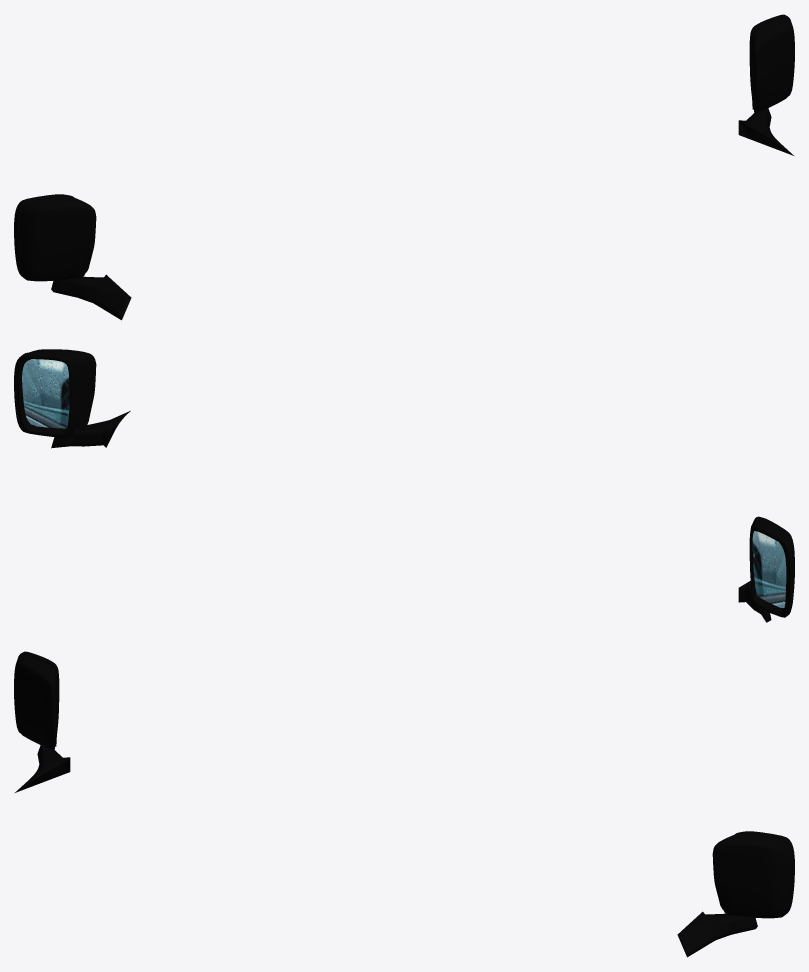
The model's file is Gương gốc.glb.
3 renders of one model, top to bottom at view 1: azimuth 30°, elevation 25°; view 2: azimuth 150°, elevation 25°; view 3: azimuth 330°, elevation 25°, orthographic.
Parts seen in each view (by area): view 1: Gương R, Gương L; view 2: Gương L, Gương R; view 3: Gương L, Gương R.
Part boxes in pixels (box(x1,y1,x2,y2)): Gương R: box(14, 194, 131, 320); Gương L: box(738, 14, 794, 155); Gương L: box(14, 349, 130, 448); Gương R: box(738, 516, 794, 622); Gương L: box(677, 831, 794, 957); Gương R: box(14, 651, 70, 792).
Size of the model in its own units: 1.05 by 0.1217 by 0.1307.
3 materials, 1 textured.
